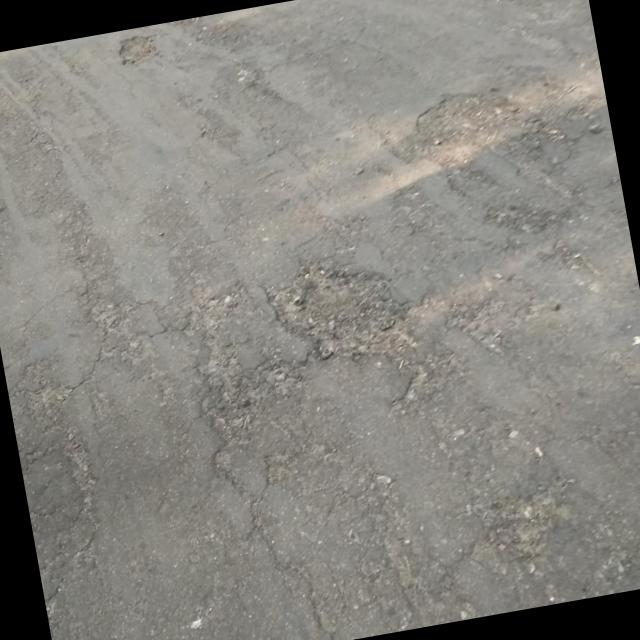Lubang: (271, 264, 416, 359), (407, 93, 527, 163), (118, 35, 154, 63)
